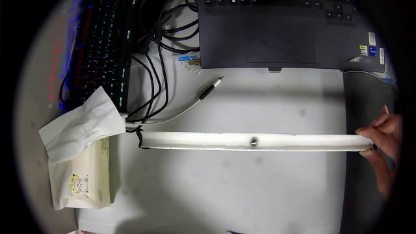gangzhu: (248, 137, 257, 146)
